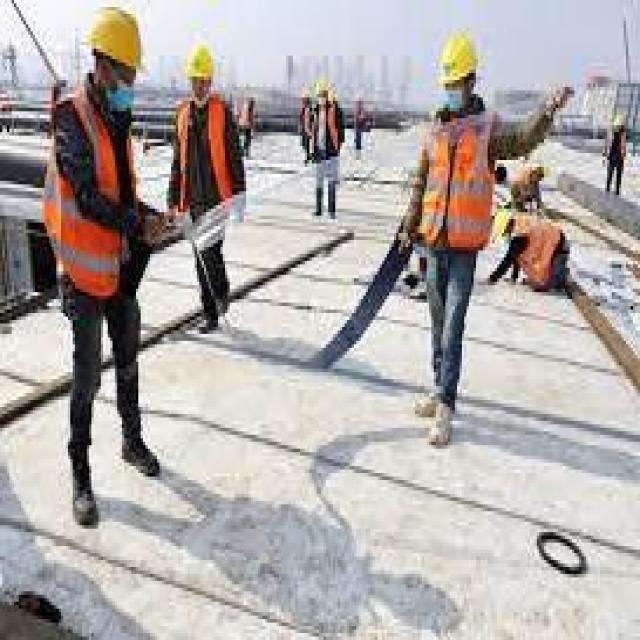Reflective-Jacket: (33, 87, 145, 313), (412, 104, 508, 264), (169, 91, 244, 219), (507, 208, 568, 296)
Safety-Helmet: (77, 0, 155, 87), (429, 21, 485, 97), (180, 35, 220, 90)
